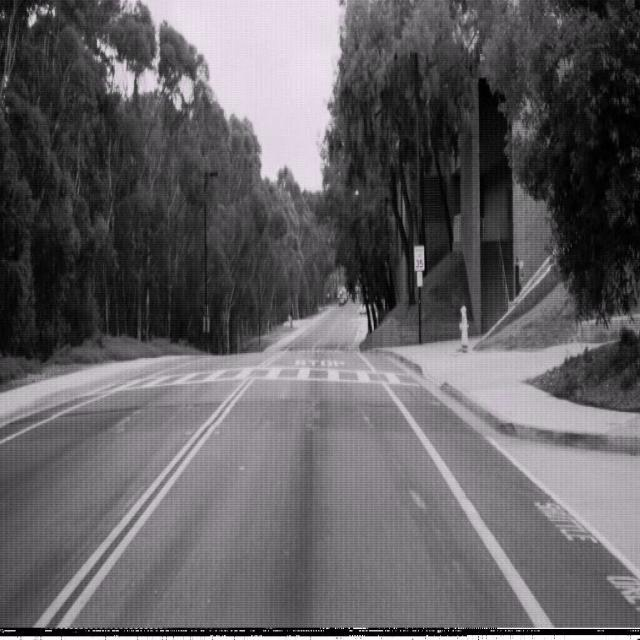speedLimit35: (414, 244, 424, 271)
